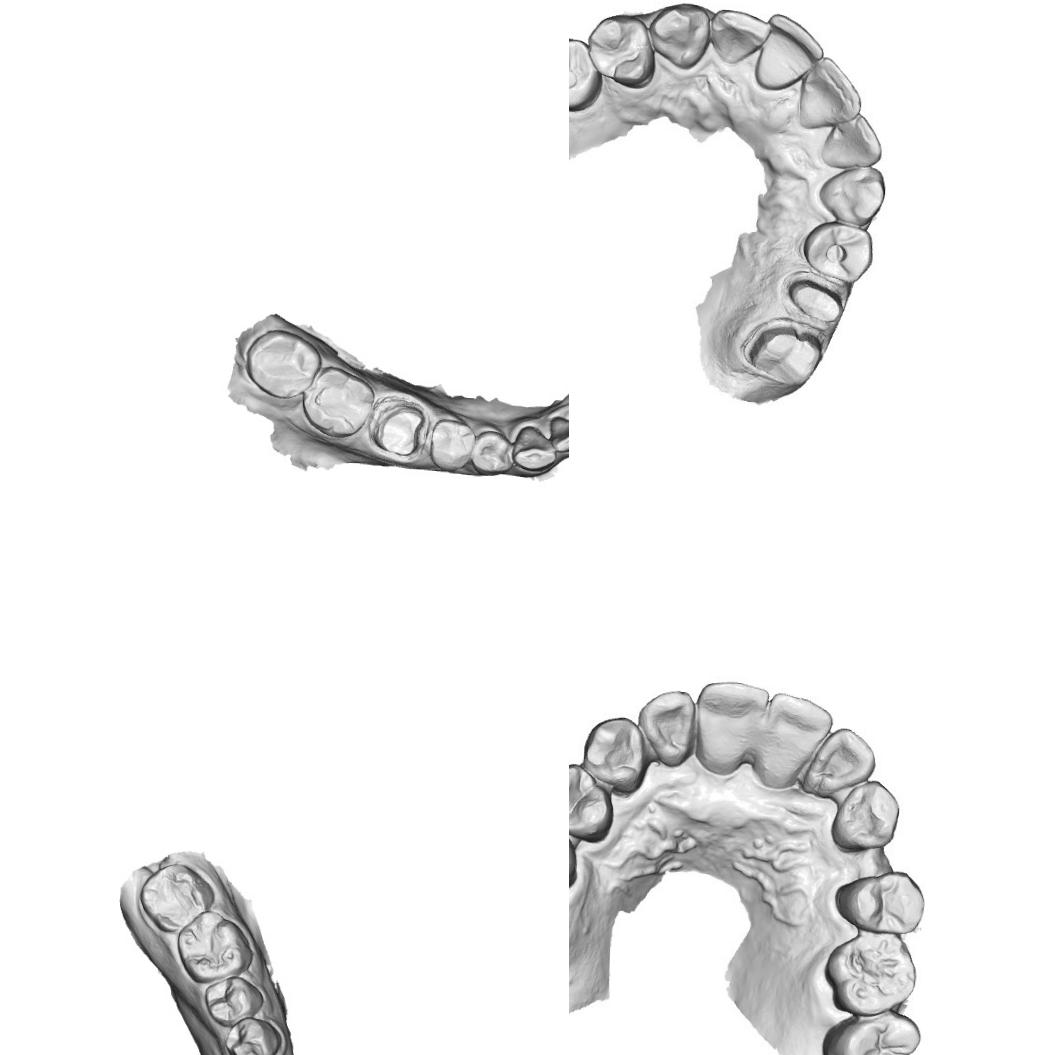canine: (825, 772, 904, 858), (579, 713, 650, 795), (814, 166, 883, 223), (654, 0, 710, 67), (654, 5, 712, 66), (509, 423, 560, 474)
crown: (748, 318, 824, 392), (370, 398, 428, 460), (778, 280, 850, 325)
incisor: (690, 676, 770, 764), (755, 689, 836, 775), (805, 723, 879, 799), (635, 686, 697, 770), (758, 12, 822, 87), (798, 58, 865, 128), (713, 5, 768, 63), (826, 113, 880, 168), (545, 411, 569, 456)
molar: (820, 928, 921, 1017), (174, 909, 256, 987), (243, 327, 326, 402), (137, 861, 217, 936), (300, 364, 378, 440), (818, 1009, 924, 1055), (801, 220, 878, 283)
premolar: (830, 866, 929, 937), (585, 12, 660, 91), (569, 760, 614, 845), (202, 973, 265, 1029), (569, 30, 606, 114), (427, 416, 477, 472), (223, 1015, 283, 1055), (470, 426, 514, 478)
